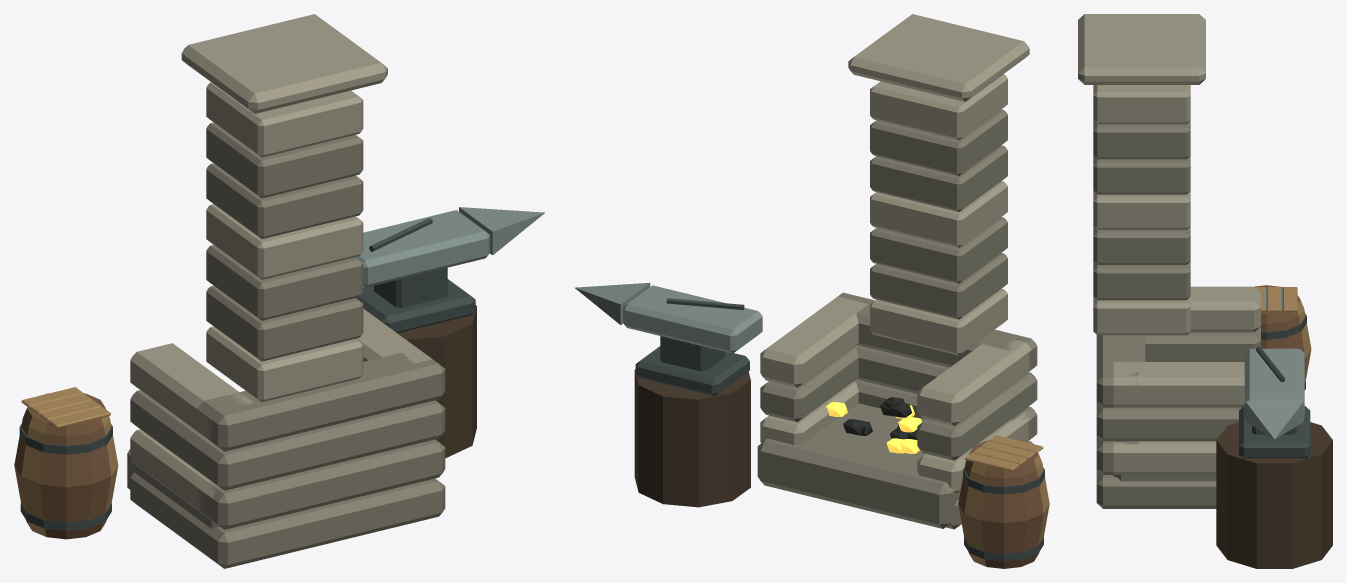
Rendered from Camp_Forge_L1.fbx.
The picture shows the model from 3 angles, left to right: view 1: azimuth 30°, elevation 25°; view 2: azimuth 150°, elevation 25°; view 3: azimuth 270°, elevation 25°; orthographic projection. The views are drawn at different scales.
Visible parts, largest first — view 1: Camp_Forge_L1_Export; view 2: Camp_Forge_L1_Export; view 3: Camp_Forge_L1_Export.
Boxes of the visible parts, x1=… form: Camp_Forge_L1_Export: x1=14, y1=14, x2=544, y2=568; Camp_Forge_L1_Export: x1=575, y1=14, x2=1049, y2=568; Camp_Forge_L1_Export: x1=1078, y1=14, x2=1332, y2=568.
Bounding box in the file's own units: 3.26 × 2.86 × 1.57.
